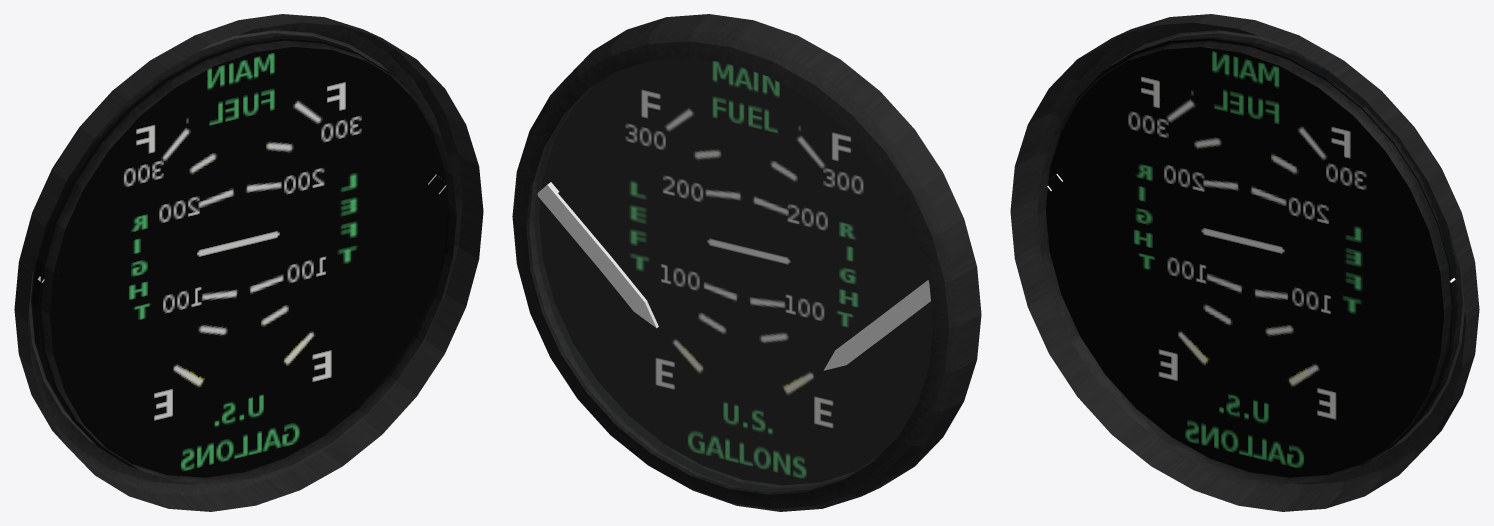
Rendered from FuelGauge.obj.
3 views of the same model, side by side, from view 1: azimuth 30°, elevation 25°; view 2: azimuth 150°, elevation 25°; view 3: azimuth 330°, elevation 25° (orthographic).
Parts seen in each view (by area): view 1: face, fond, vitre; view 2: face, vitre, fond, ptrL, ptrR; view 3: face, fond, vitre.
Boxes of the visible parts, x1,y1,x2,y2 form: face: (38, 39, 448, 477); fond: (14, 14, 483, 511); vitre: (29, 31, 382, 440); face: (539, 57, 933, 485); vitre: (529, 58, 932, 491); fond: (512, 14, 981, 511); ptrL: (537, 182, 658, 328); ptrR: (823, 280, 930, 370); face: (1046, 38, 1453, 477); fond: (1010, 14, 1479, 511); vitre: (1114, 31, 1464, 445).
Size of the model in its own units: 0.0711 by 0.0711 by 0.00647.
Materials: 2 (1 with a texture image).
